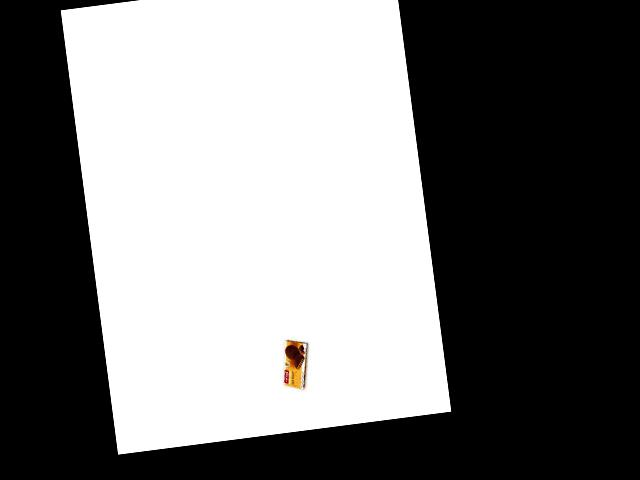chocolate: (277, 335, 309, 399)
